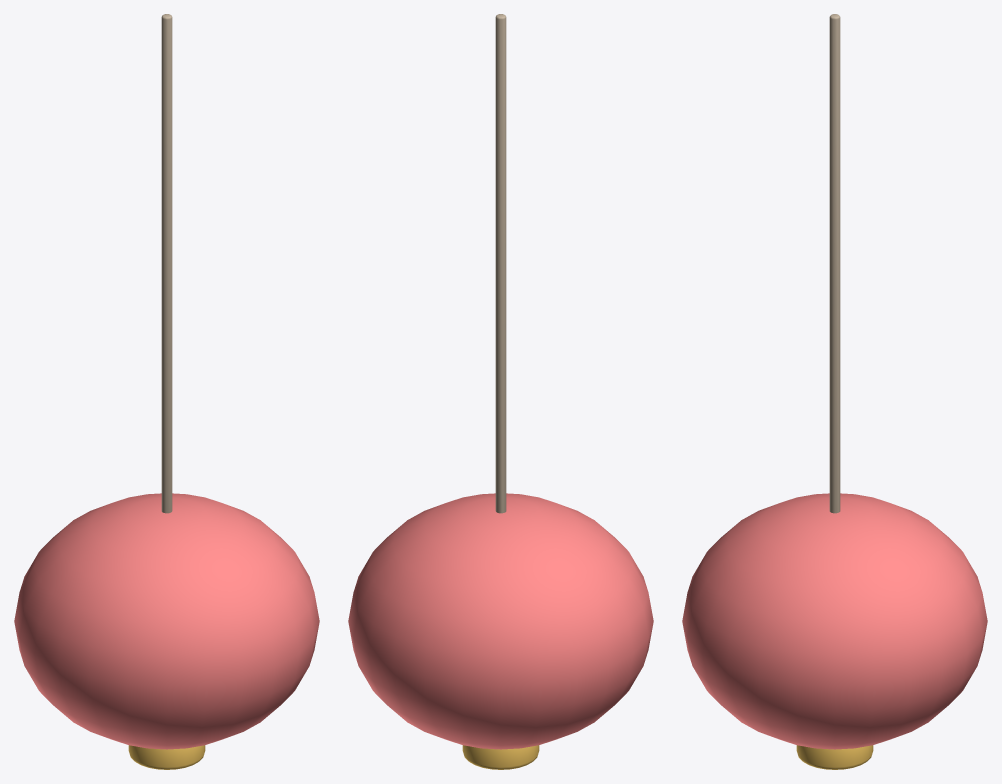
The model's file is lampion.glb.
3 renders of one model, left to right at view 1: azimuth 30°, elevation 25°; view 2: azimuth 150°, elevation 25°; view 3: azimuth 270°, elevation 25°, orthographic.
Visible parts, largest first — view 1: lampion; view 2: lampion; view 3: lampion.
Part boxes in pixels (<box>): lampion: <box>14,14,319,769</box>; lampion: <box>348,14,653,769</box>; lampion: <box>682,14,987,769</box>.
Bounding box in the file's own units: 0.32 × 0.855 × 0.32.
